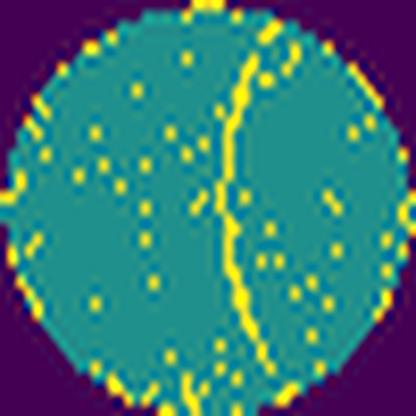Scratch: (204, 44, 284, 384)
